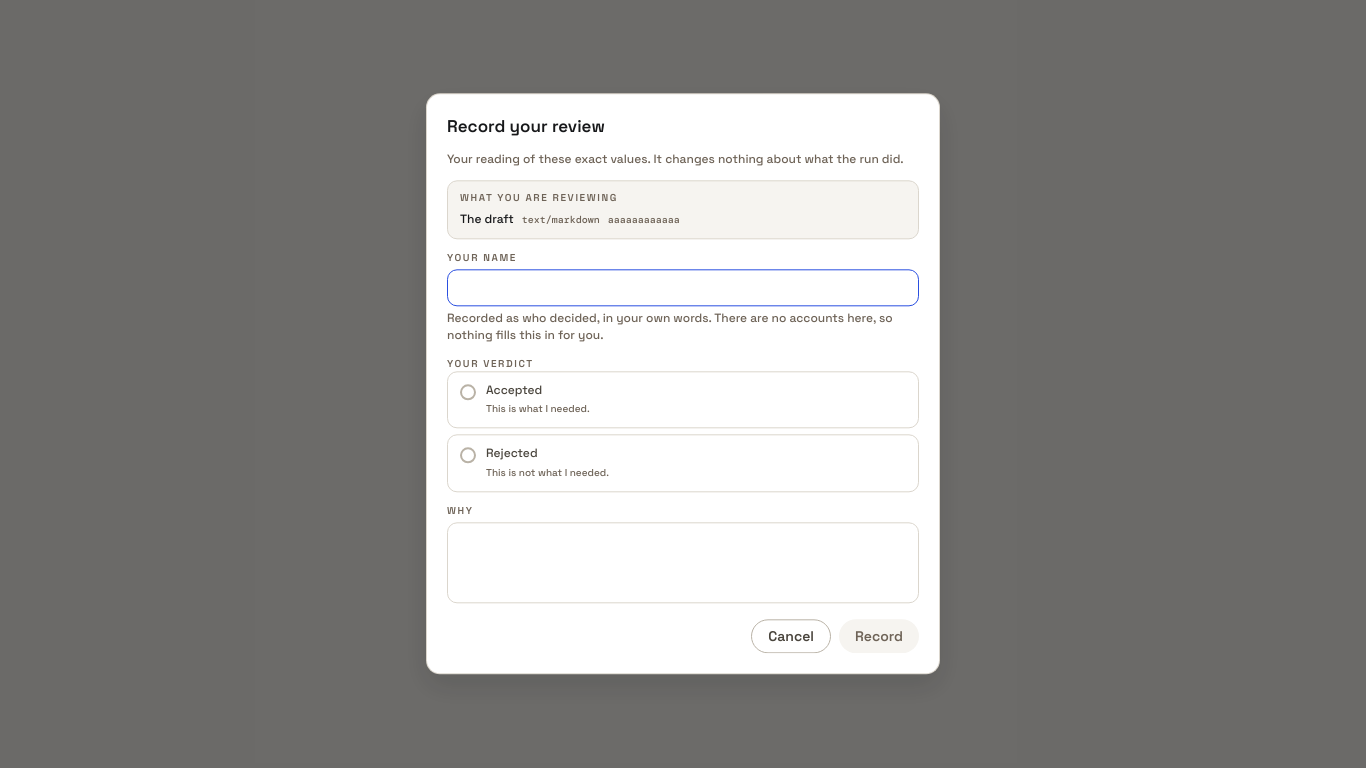
Test: OwnerReviewForm › retries under the same review id after a lost answer, and the repeat adds nothing
In the field labelled "Your name": point(683, 288) [447, 270, 919, 306], type "Alex"
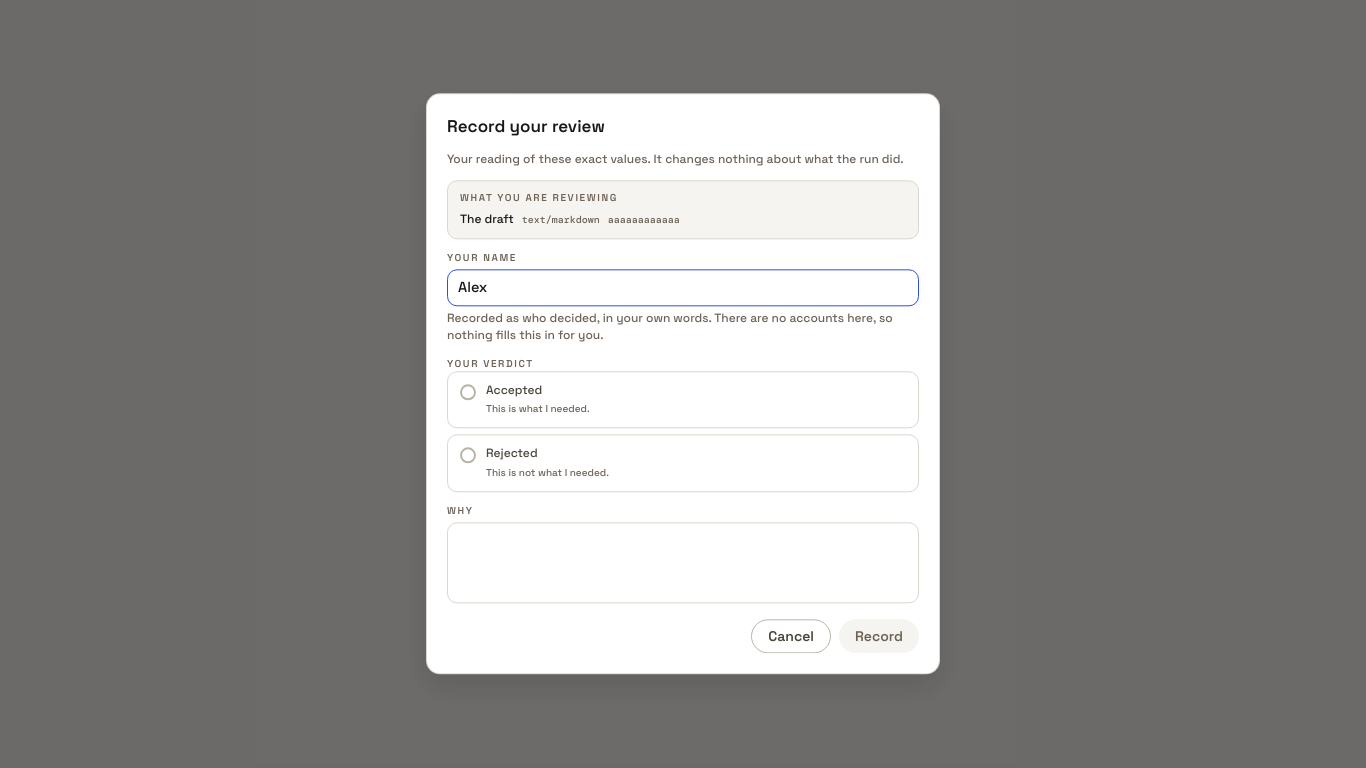
Click the radio button labelled "Accepted": point(514, 390) [447, 371, 919, 429]
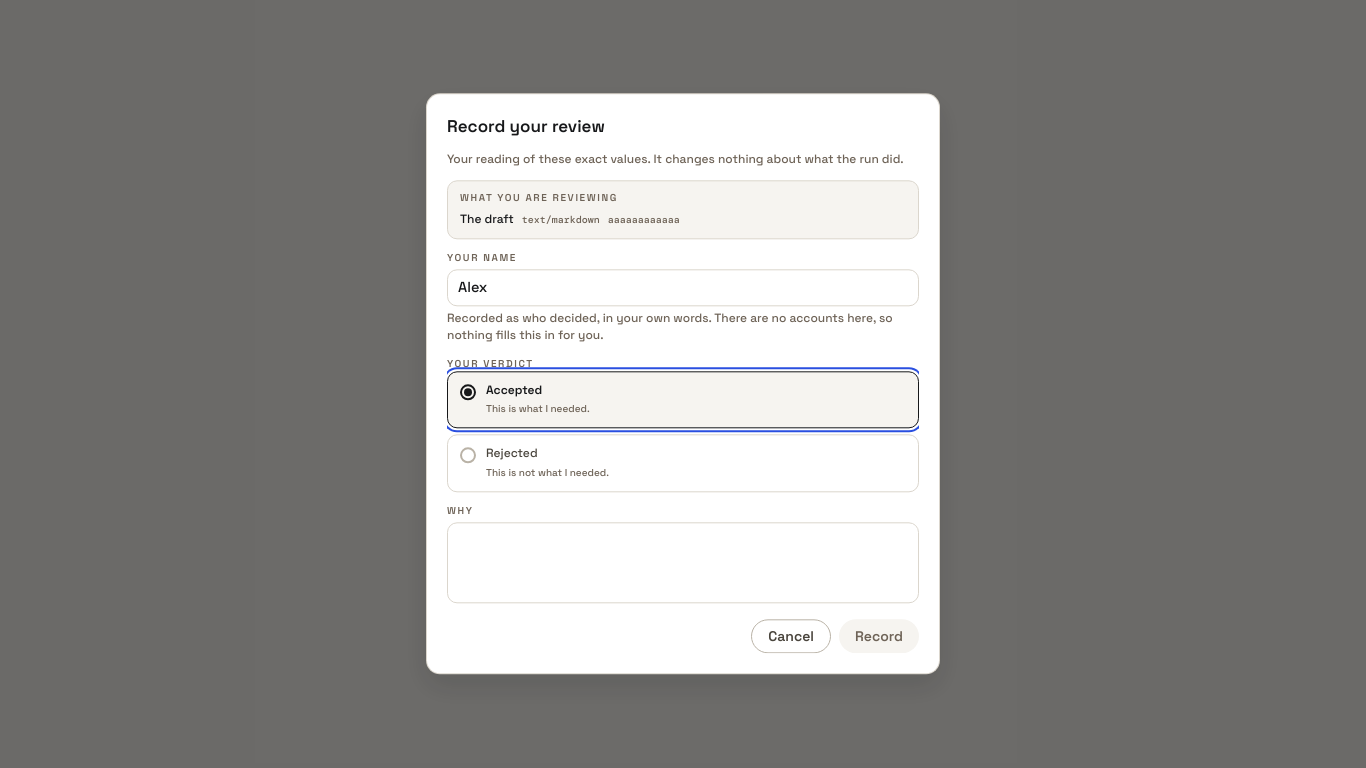
In the text box labelled "Why": point(683, 563) [447, 522, 919, 604], type "It answered the question."
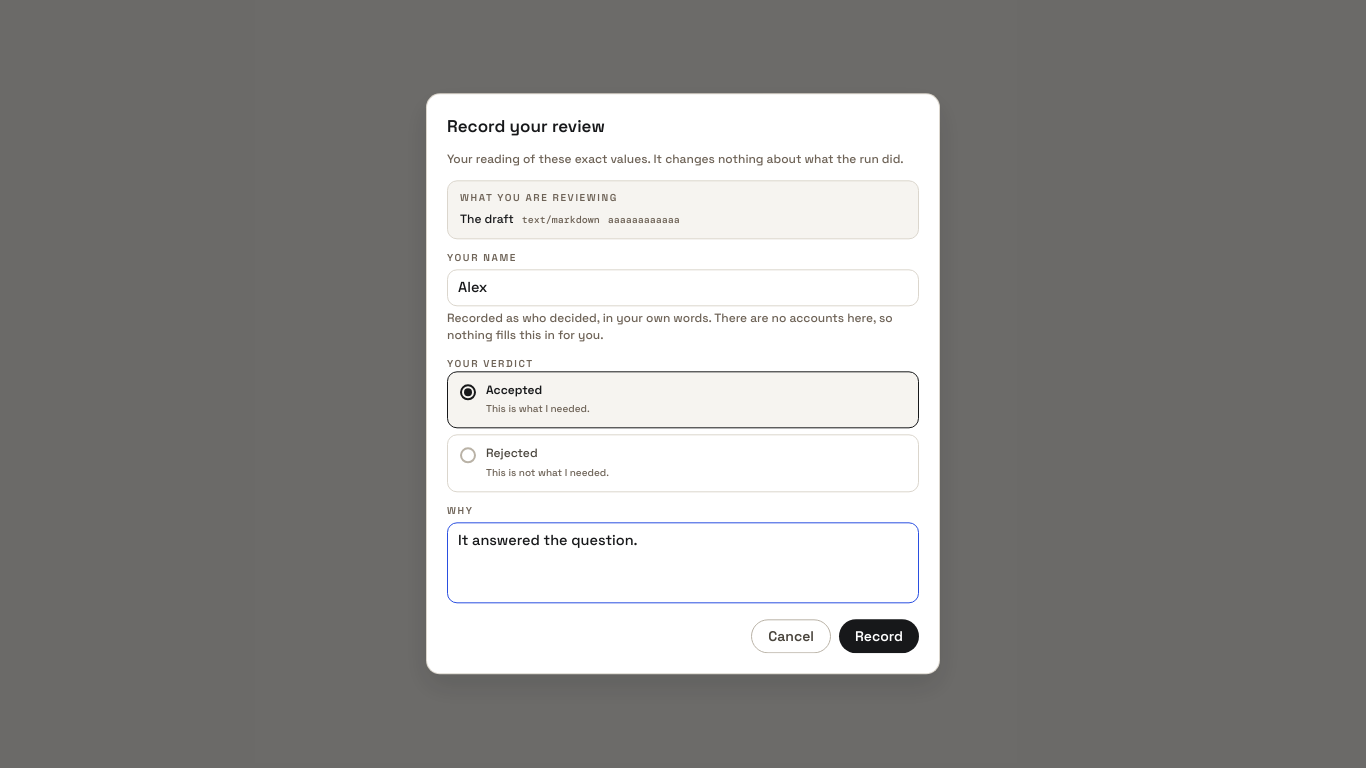
Click the button "Record": point(879, 637) [839, 620, 919, 654]
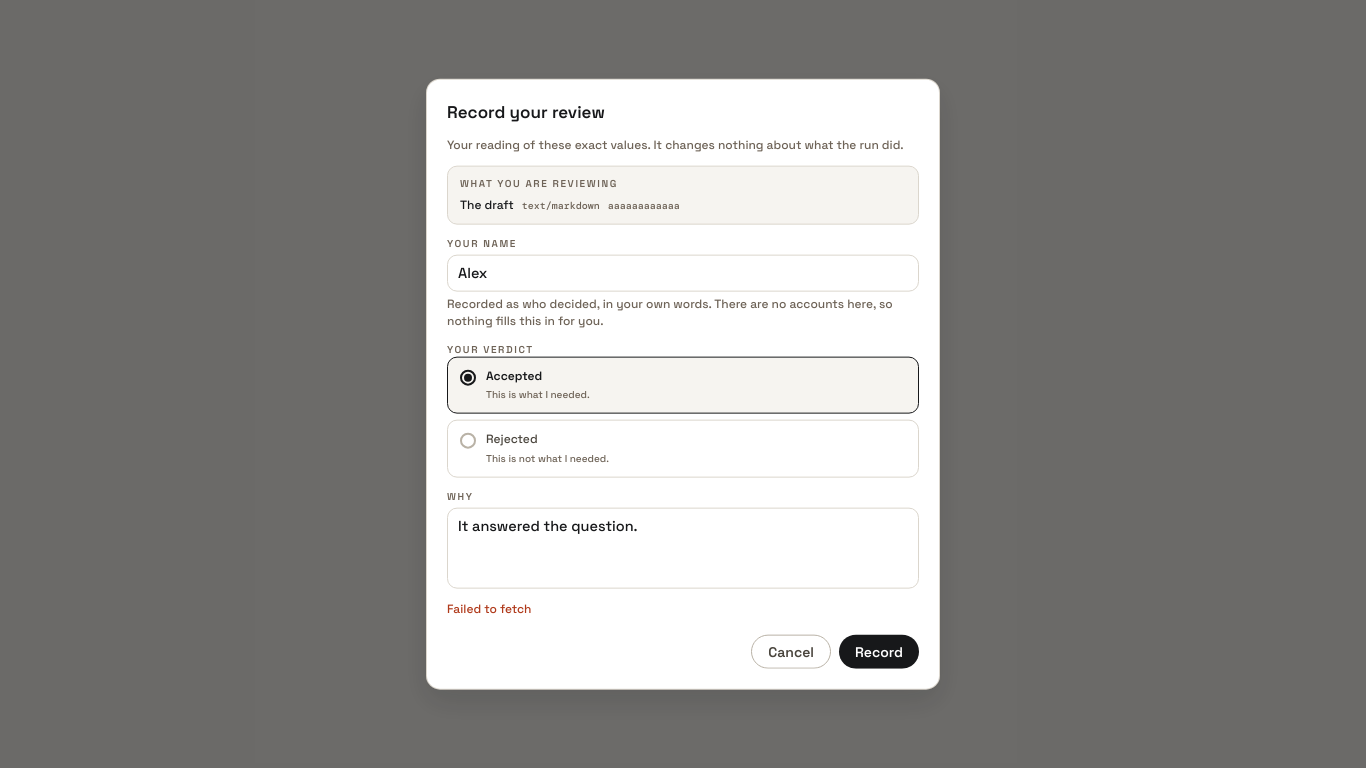
Now the message "Failed to fetch" is shown, box [447, 601, 532, 617]
Click the button "Record": point(879, 651) [839, 634, 919, 668]
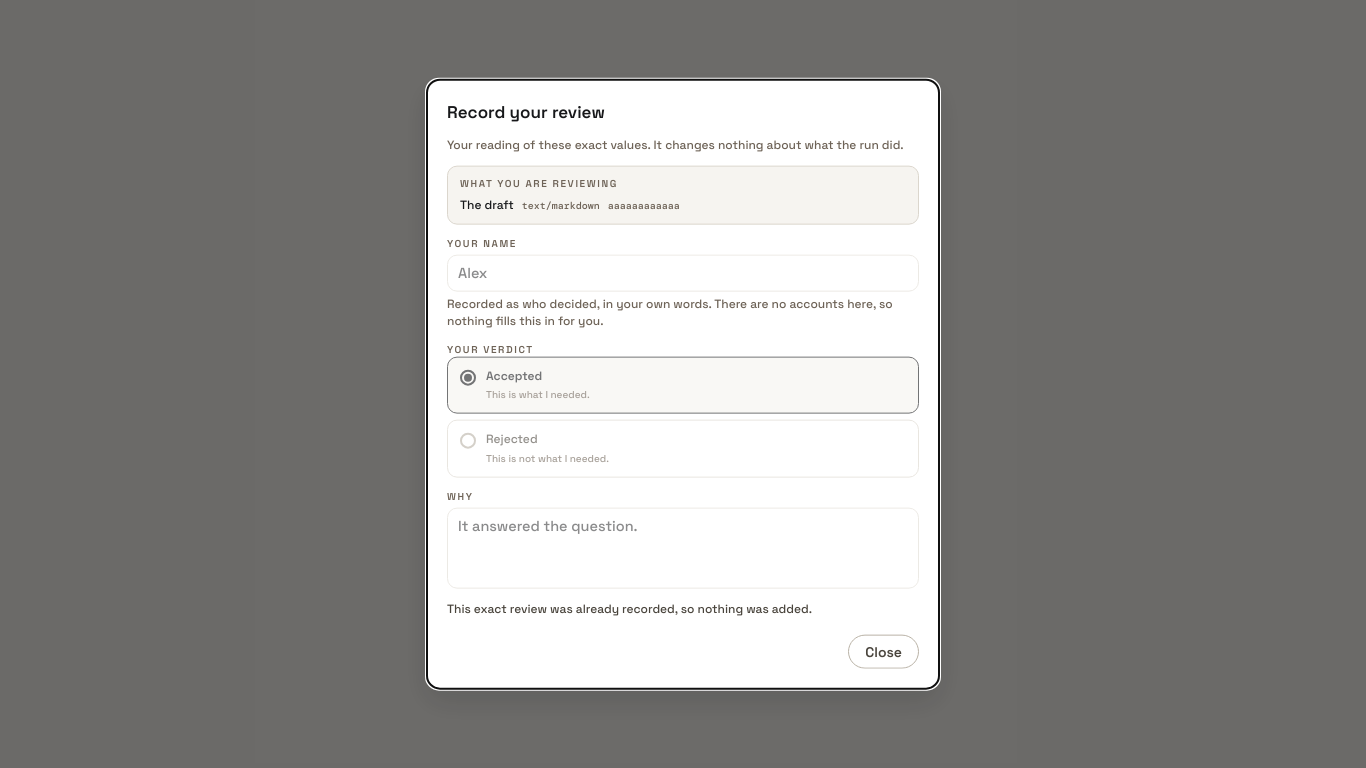
Now the message reads "This exact review was already recorded, so nothing was added.", box [447, 601, 812, 617]
